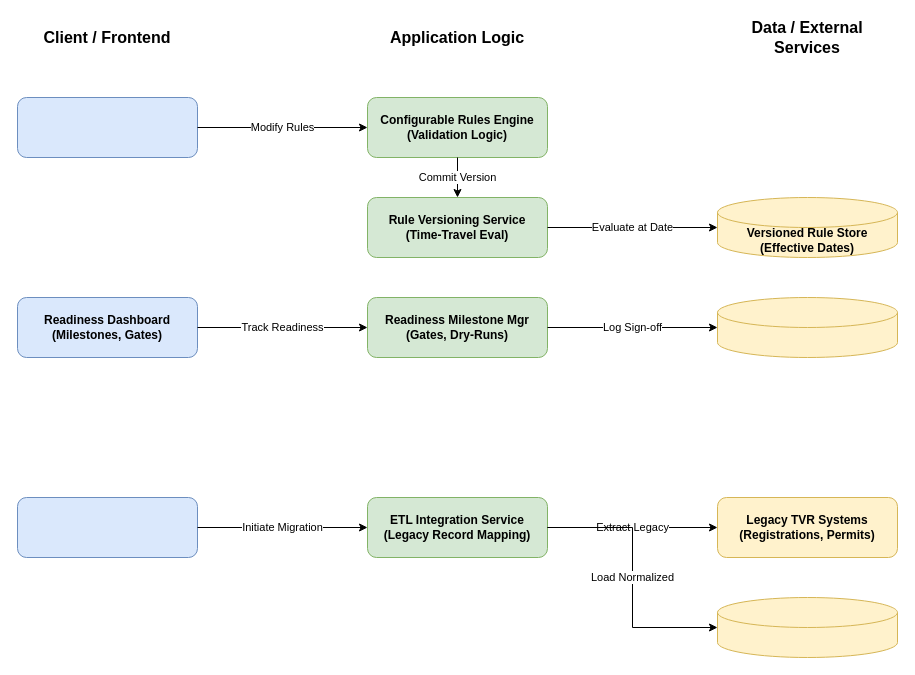
Some shapes in this 915 by 675 pixel diagram are drawn without their labels. The shapes that lost their labels are listed below. From the top down, each one's centre as x and y in pixels, then its label:
At point 107,127: "Ordinance Admin Console (Fees, Fines, Rules)".
At point 807,327: "Implementation Plan Store (Gates & Sign-offs)".
At point 107,527: "Legacy Data Import UI (Mapping & Recon)".
At point 807,627: "Operational Registry (Destination Store)".
